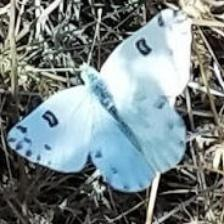butterfly: (7, 9, 192, 192)
